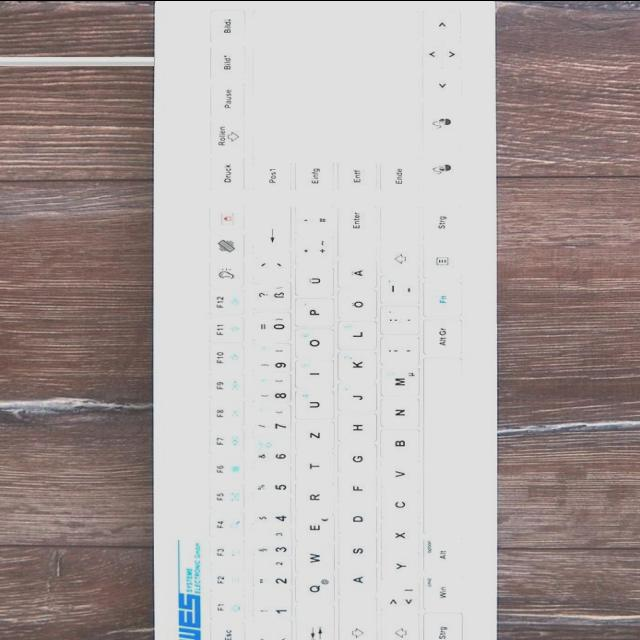0: (247, 313, 289, 342)
1: (249, 590, 289, 619)
2: (250, 559, 290, 588)
3: (249, 529, 289, 559)
4: (248, 499, 288, 527)
5: (247, 468, 289, 498)
6: (247, 436, 289, 466)
7: (249, 406, 289, 434)
8: (249, 376, 289, 404)
9: (247, 344, 289, 374)
a: (334, 568, 374, 597)
accent: (248, 252, 288, 281)
ae: (333, 261, 375, 290)
alt-left: (419, 537, 461, 575)
altgr-right: (418, 320, 460, 358)
b: (375, 430, 417, 460)
c: (377, 491, 417, 521)
caret: (249, 622, 289, 640)
comma: (375, 338, 417, 367)
d: (334, 506, 374, 536)
del: (246, 207, 288, 251)
e: (291, 515, 331, 544)
enter: (333, 206, 373, 260)
f: (333, 476, 375, 505)
g: (333, 446, 375, 476)
h: (333, 414, 375, 444)
hash: (291, 207, 331, 237)
i: (291, 360, 331, 389)
j: (333, 384, 375, 413)
k: (333, 352, 375, 382)
keyboard: (147, 0, 505, 640)
l: (333, 322, 375, 352)
less: (375, 584, 417, 614)
m: (376, 368, 418, 398)
minus: (376, 276, 418, 306)
n: (377, 399, 417, 429)
o: (290, 329, 332, 359)
oe: (333, 291, 375, 321)
p: (290, 299, 332, 329)
plus: (290, 238, 332, 267)
point: (376, 307, 416, 336)
q: (290, 576, 332, 606)
r: (291, 484, 331, 514)
s: (334, 538, 374, 567)
shift-left: (378, 614, 418, 640)
shift-lock: (334, 598, 374, 640)
shift-right: (376, 207, 416, 275)
space: (418, 359, 462, 537)
ss: (249, 282, 289, 312)
strg-left: (419, 613, 461, 640)
strg-right: (419, 205, 459, 243)
t: (291, 453, 331, 482)
tab: (290, 606, 332, 640)
u: (290, 391, 332, 421)
ue: (291, 268, 331, 298)
v: (377, 461, 417, 491)
w: (290, 545, 332, 575)
x: (377, 522, 417, 552)
y: (377, 553, 417, 583)
z: (291, 422, 331, 452)
